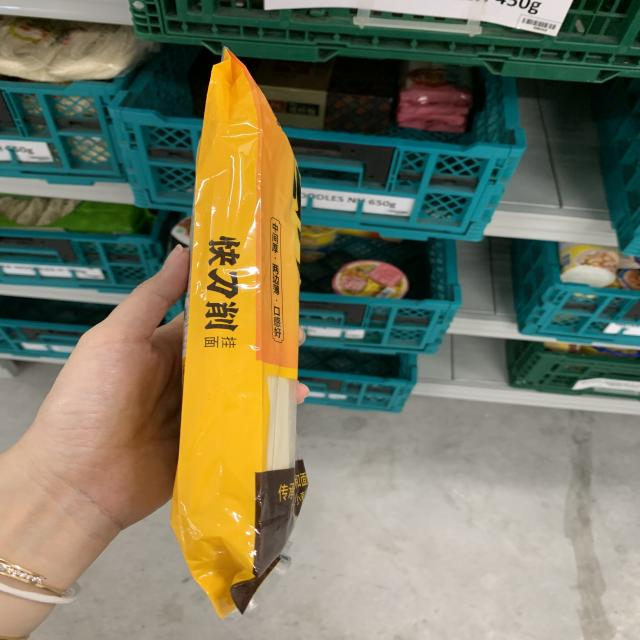object_name: (206, 70, 280, 609)
